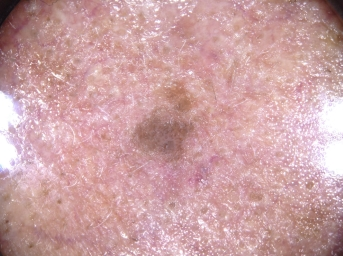seborrheic keratosis: (110, 94, 208, 176)
